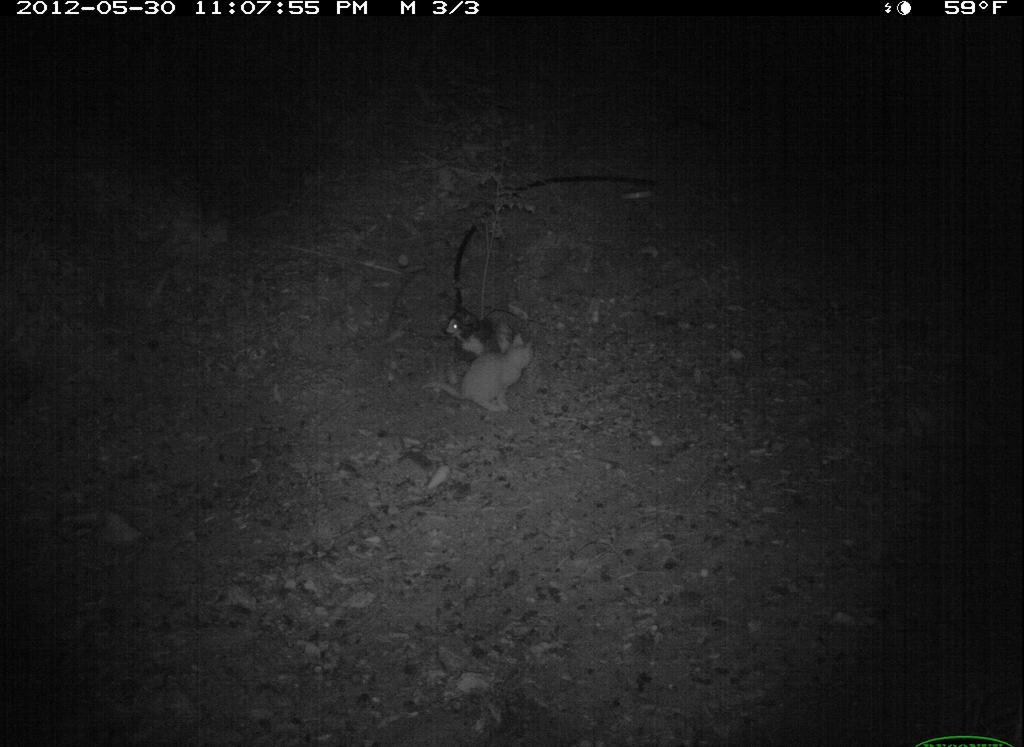cat: (420, 333, 541, 420), (440, 305, 509, 362)
